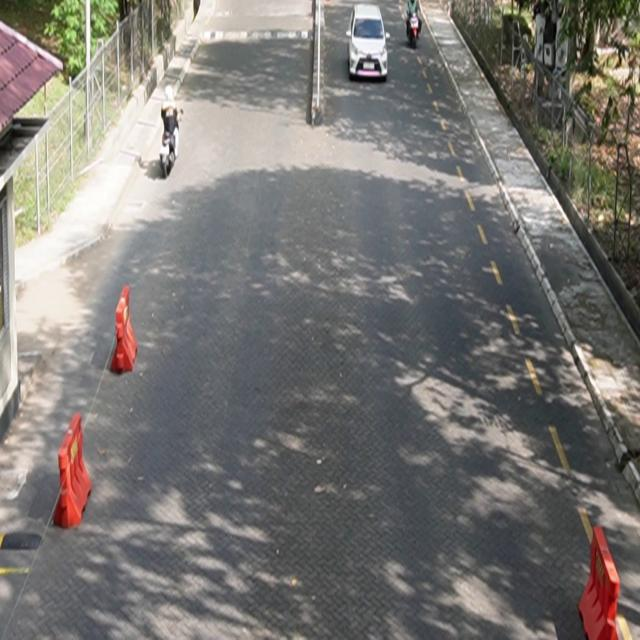car: (347, 3, 389, 83)
